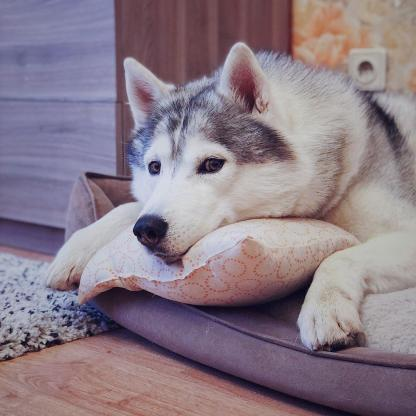dog: (45, 39, 416, 352)
